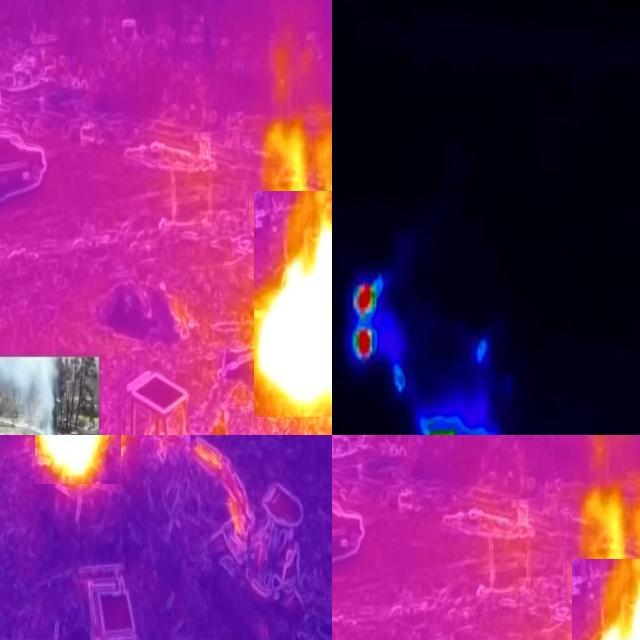fire: (255, 192, 333, 418), (37, 437, 117, 490), (351, 277, 379, 363), (602, 594, 640, 640), (423, 422, 487, 436)
